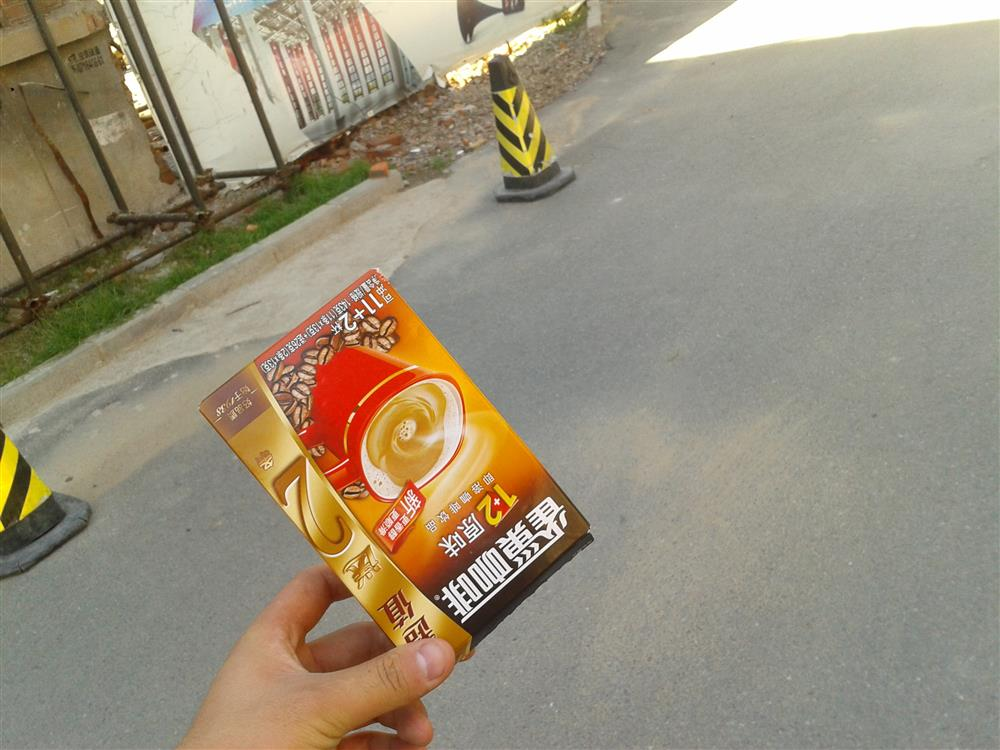Nestle: (196, 260, 608, 675)
